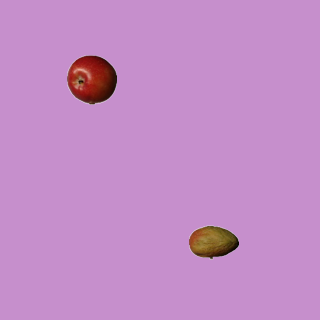Apple Braeburn: (66, 54, 116, 104)
Papaya: (188, 217, 238, 267)
